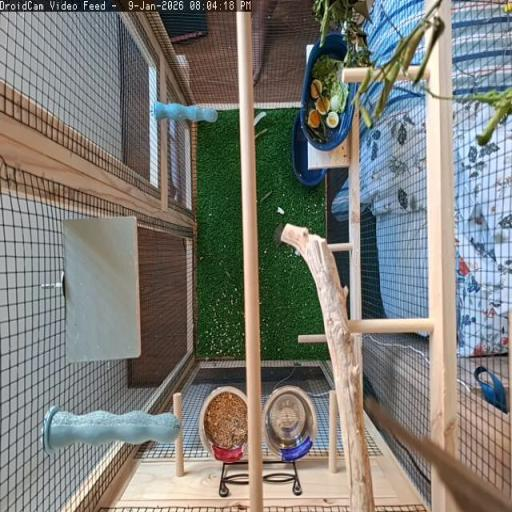bebedero: (265, 387, 316, 461)
comedero: (200, 386, 246, 461)
